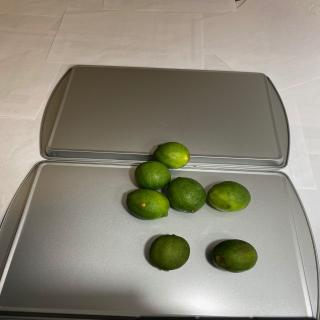Apple: (211, 239, 258, 273)
Lemon: (149, 234, 190, 271), (207, 180, 251, 212), (126, 188, 170, 220), (167, 177, 206, 213), (134, 160, 171, 190), (153, 142, 190, 170)
